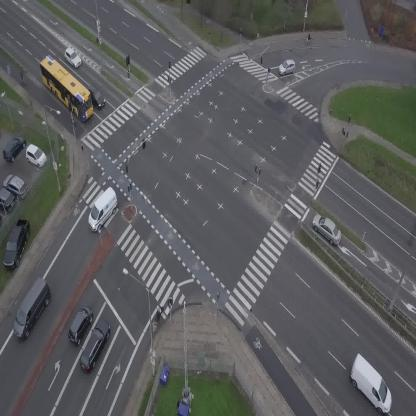bicycle: (153, 305, 165, 323), (17, 69, 27, 85), (304, 32, 313, 43)
bus: (31, 52, 102, 123)
car: (75, 316, 116, 375), (63, 302, 98, 347), (306, 211, 347, 248), (84, 83, 108, 111), (60, 46, 84, 70), (277, 58, 298, 77)
lorry: (339, 352, 402, 416), (4, 276, 59, 343), (80, 185, 126, 234)
